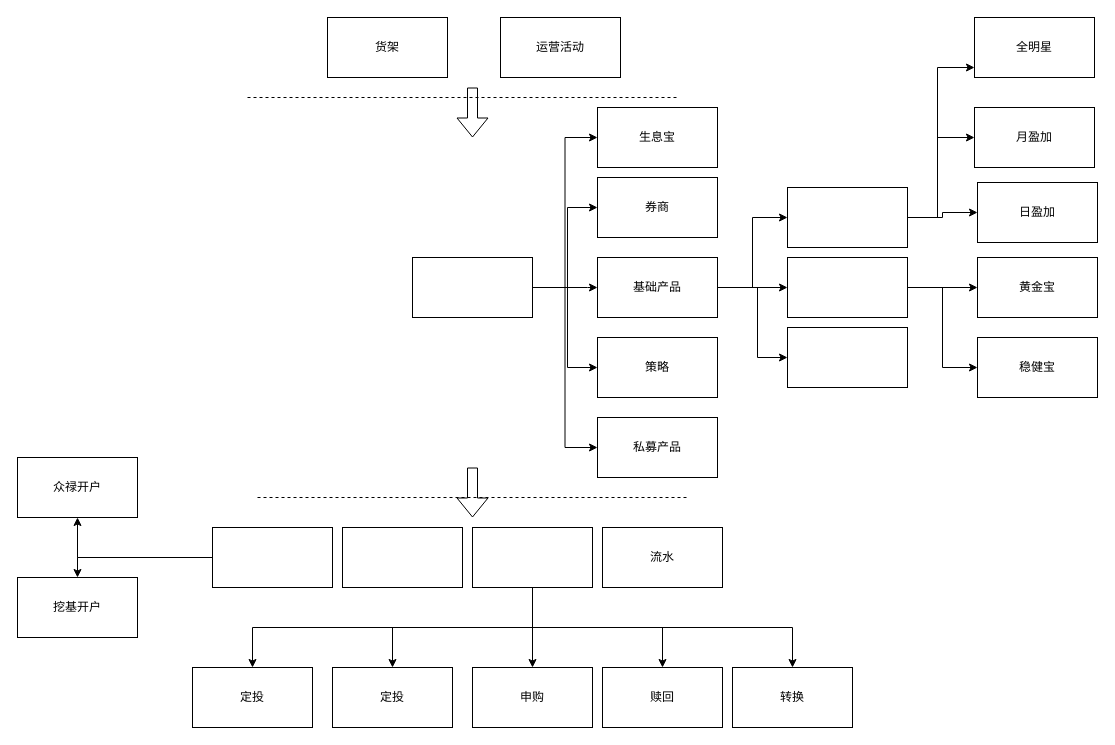
Some shapes in this 1115 by 745 pixel diagram are drawn without their labels. Here are the shapes that lost their labels. From the top down, the box of each, then its label:
(786, 186, 908, 248): 组合
(412, 256, 532, 318): 产品
(786, 256, 908, 318): 非货
(786, 326, 908, 388): 货基
(212, 526, 332, 588): 账户
(342, 526, 462, 588): 持仓
(472, 526, 592, 588): 交易
